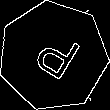P_SW: (24, 25, 82, 87)
